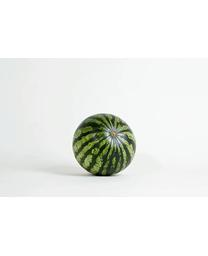watermelon: (73, 110, 138, 179)
